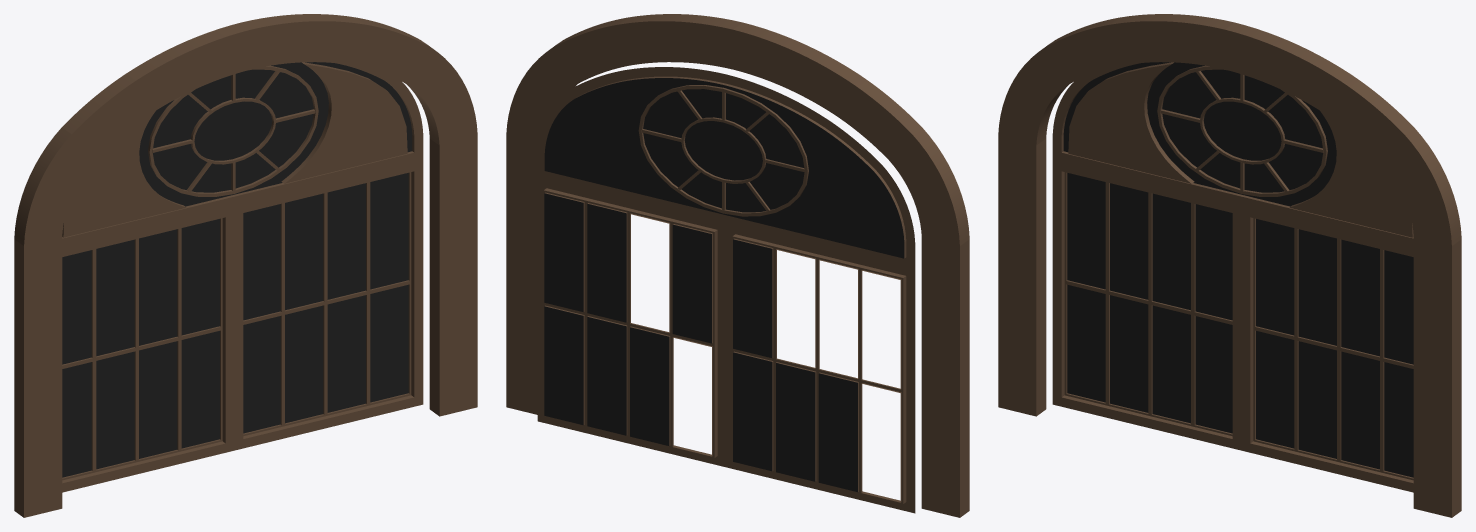
File: Door.FBX
3 renders of one model, left to right at view 1: azimuth 30°, elevation 25°; view 2: azimuth 150°, elevation 25°; view 3: azimuth 330°, elevation 25°, orthographic.
Parts seen in each view (by area): view 1: Shape457, Shape456, Line16539, Line16540, Circle006; view 2: Shape457, Shape456, Circle006; view 3: Shape457, Shape456, Line16540, Line16539, Circle006.
Part boxes in pixels (x1,y1,x2,y2): Shape457: (62, 62, 423, 492); Shape456: (14, 14, 477, 517); Line16539: (281, 62, 407, 183); Line16540: (62, 111, 186, 237); Circle006: (148, 65, 318, 196); Shape457: (537, 67, 915, 513); Shape456: (506, 14, 969, 517); Circle006: (638, 85, 808, 216); Shape457: (1052, 62, 1413, 492); Shape456: (998, 14, 1461, 517); Line16540: (1068, 62, 1194, 183); Line16539: (1289, 111, 1413, 237); Circle006: (1157, 65, 1327, 196).
Bounding box in the file's own units: 428 × 390 × 33.2.
